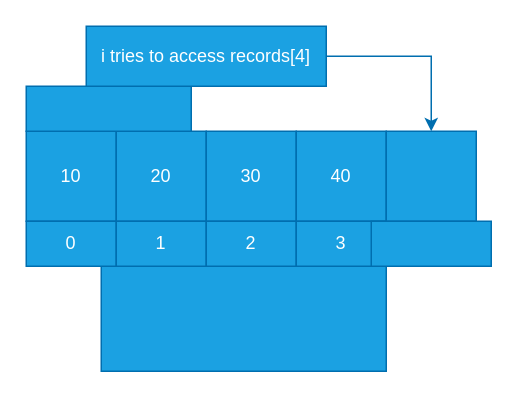
The diagram is 518 pixels wide and 398 high, and some of its shapes have lost their labels. Each missing label, with the centre of its shape:
Defaults to 0: the point at 430,175
Does not Exist!: the point at 430,243
i = 4, n = 4, i <= 4: the point at 108,108
Records: the point at 243,318
